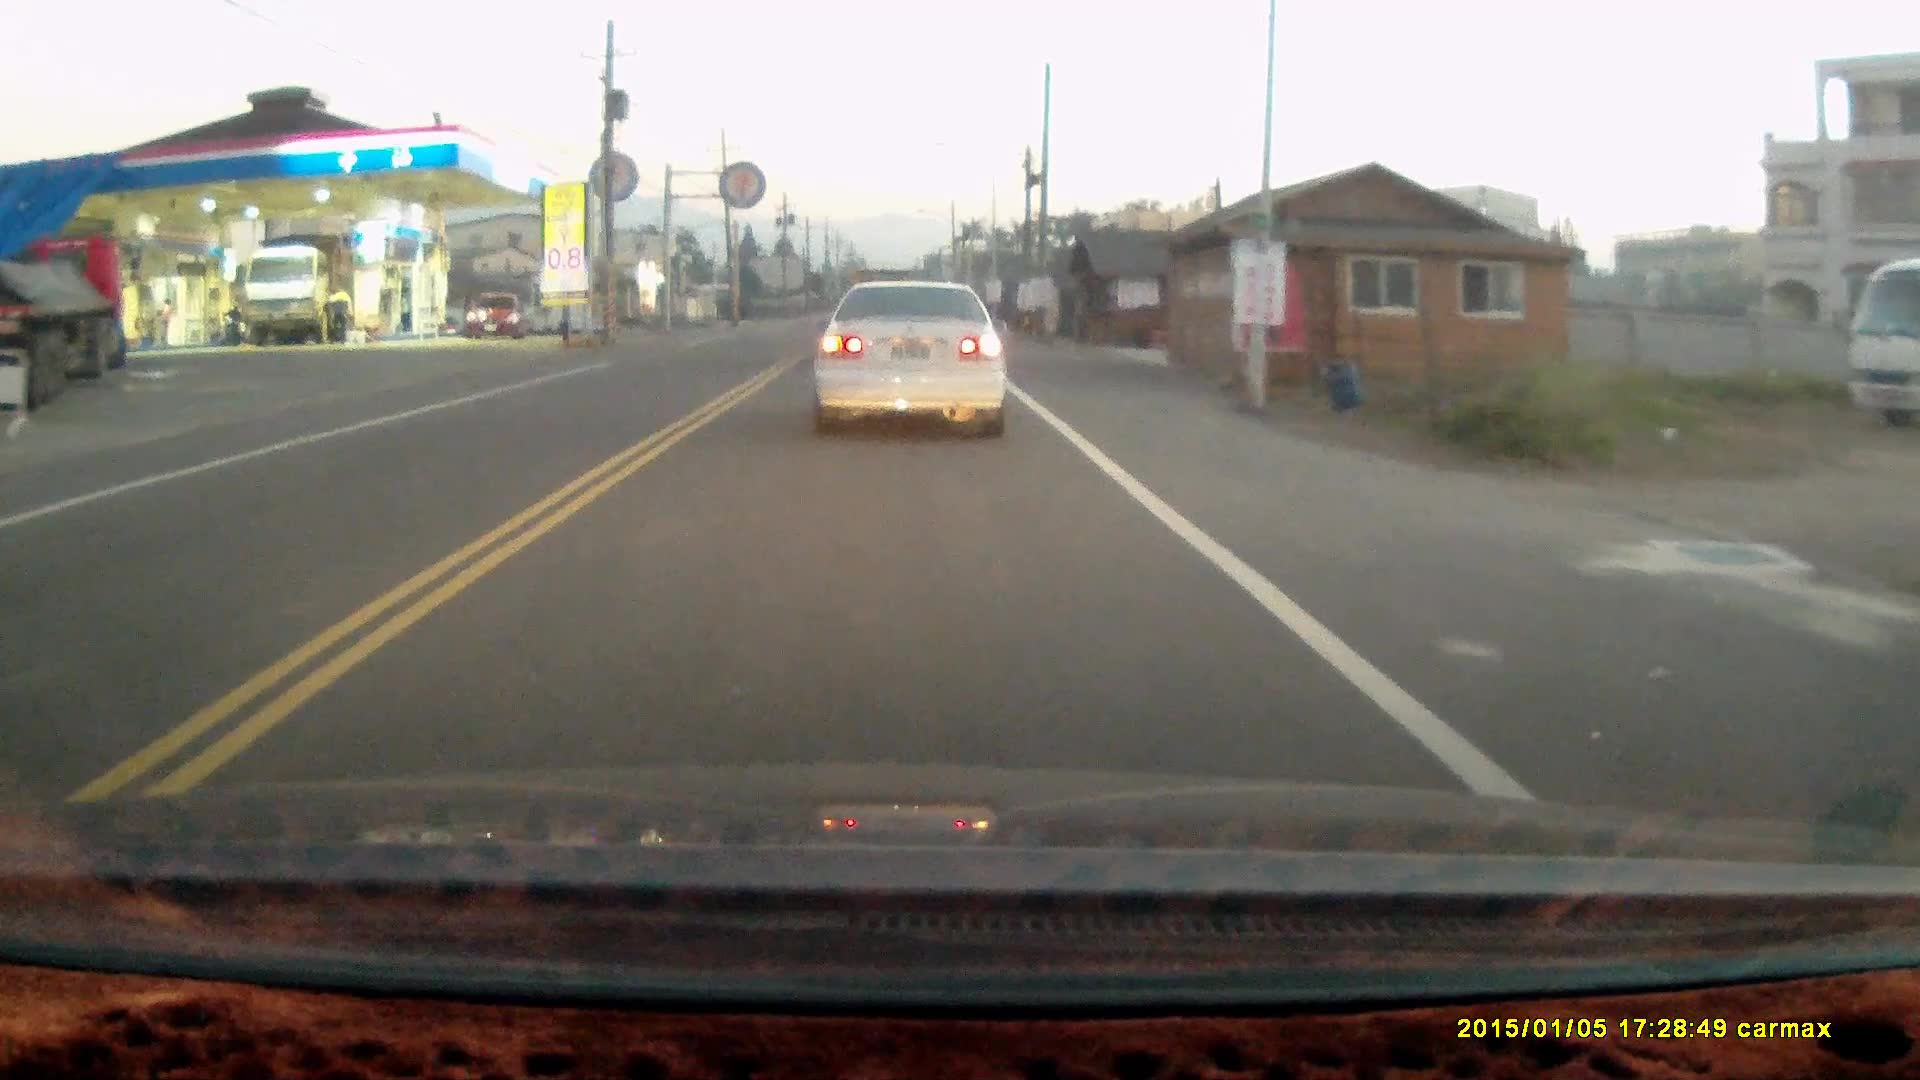pedestrian: (324, 284, 354, 340)
vehicle: (811, 276, 1010, 439), (0, 229, 131, 411), (243, 245, 353, 350), (468, 296, 529, 346)
